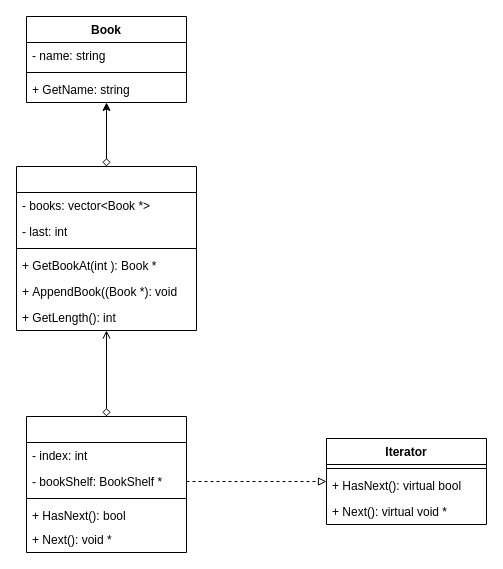
Image size: 503x569. Some labels were removed from this diagram. The box of each missing label's shape, as (x1, y1, x2, y2) in pixels:
BookShelf: (16, 166, 196, 330)
BookShelfIterator: (26, 416, 186, 552)
